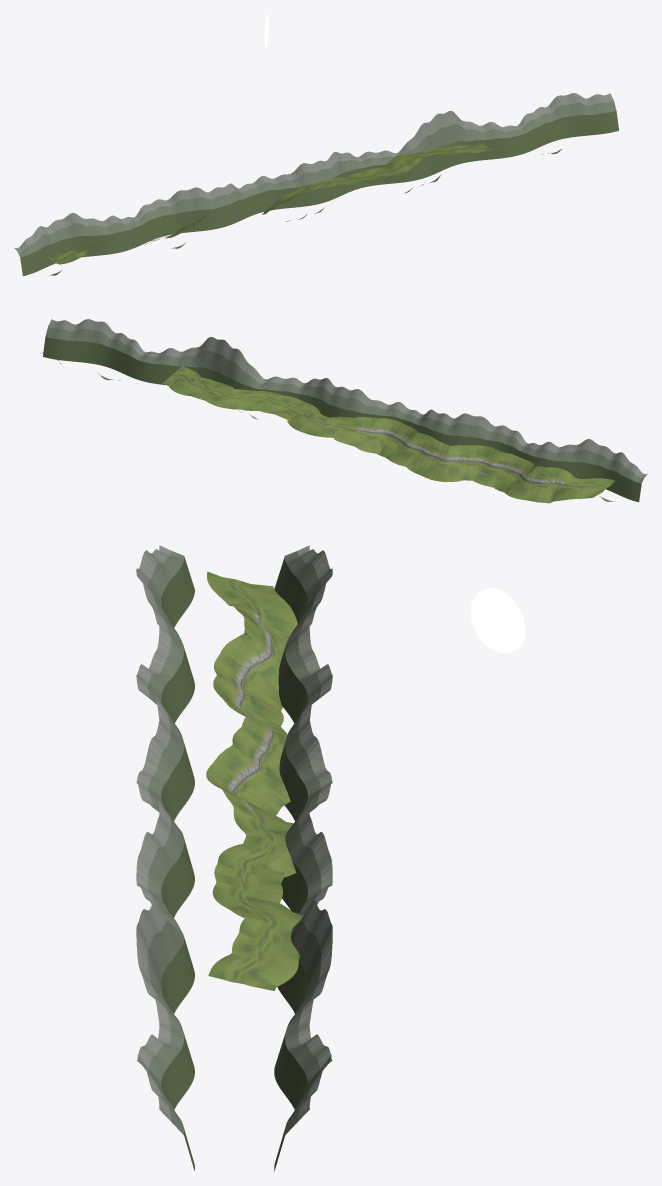
Rendered from aubisque.glb.
3 renders of one model, top to bottom at view 1: azimuth 30°, elevation 25°; view 2: azimuth 150°, elevation 25°; view 3: azimuth 270°, elevation 25°, orthographic. The views are drawn at different scales.
Visible parts, largest first — view 1: Peaks, Land_010; view 2: Peaks, Land_004, Land_001, Land_003, Land_005, Land_007, Land_006, Land_002, Land_008, Land_011, Land_000, Land_010 (+3 smaller); view 3: Peaks, Sun, Land_002, Land_006, Land_012, Land_009, Land_000, Land_003, Land_005, Land_010, Land_011, Land_001 (+3 smaller).
Part boxes in pixels (x1,y1,x2,y2): Peaks: (14,93,618,276); Land_010: (364,162,415,177); Peaks: (42,319,647,502); Land_004: (424,444,475,482); Land_001: (523,466,573,503); Land_003: (472,445,517,488); Land_005: (391,432,445,476); Land_007: (334,417,384,453); Land_006: (377,418,417,460); Land_002: (495,456,538,499); Land_008: (291,413,347,438); Land_011: (201,382,247,410); Land_000: (562,476,615,500); Land_010: (245,390,287,414); Peaks: (136,545,332,1171); Sun: (470,588,525,653); Land_002: (216,628,283,710); Land_006: (206,745,290,815); Land_012: (220,931,299,986); Land_009: (214,844,296,884); Land_000: (207,572,297,623); Land_003: (213,659,283,726); Land_005: (232,720,288,796); Land_010: (212,876,291,911); Land_011: (232,908,302,943); Land_001: (233,604,297,656).
Bounding box in the file's own units: 16713 × 3941 × 4717.
